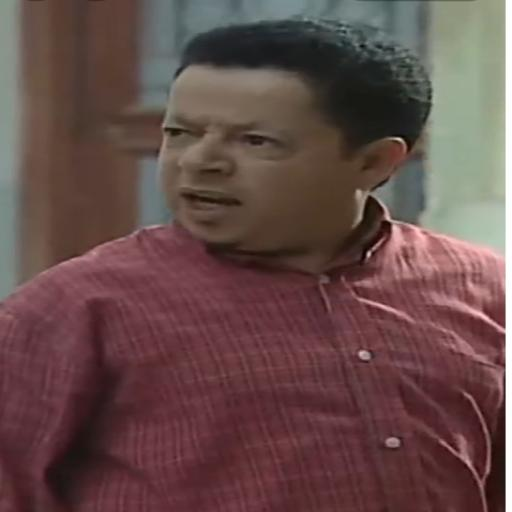fouchika: (160, 66, 405, 250)
